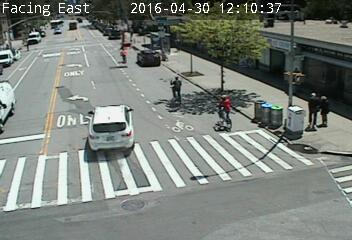neg: (210, 86, 241, 127), (235, 27, 259, 59), (164, 73, 187, 103), (33, 36, 56, 66), (174, 117, 192, 141), (115, 43, 132, 66), (87, 79, 104, 101), (145, 116, 154, 127), (118, 106, 124, 114)
pos: (296, 90, 323, 126), (317, 93, 340, 124), (24, 41, 32, 51)
